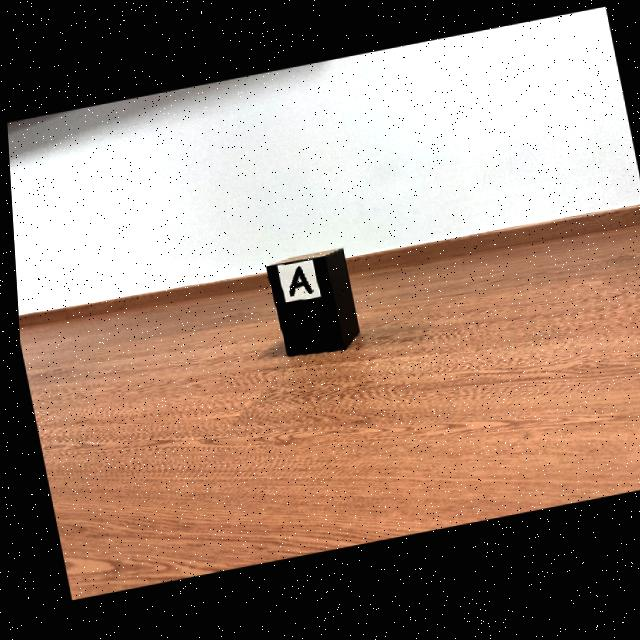A: (286, 270, 309, 299)
